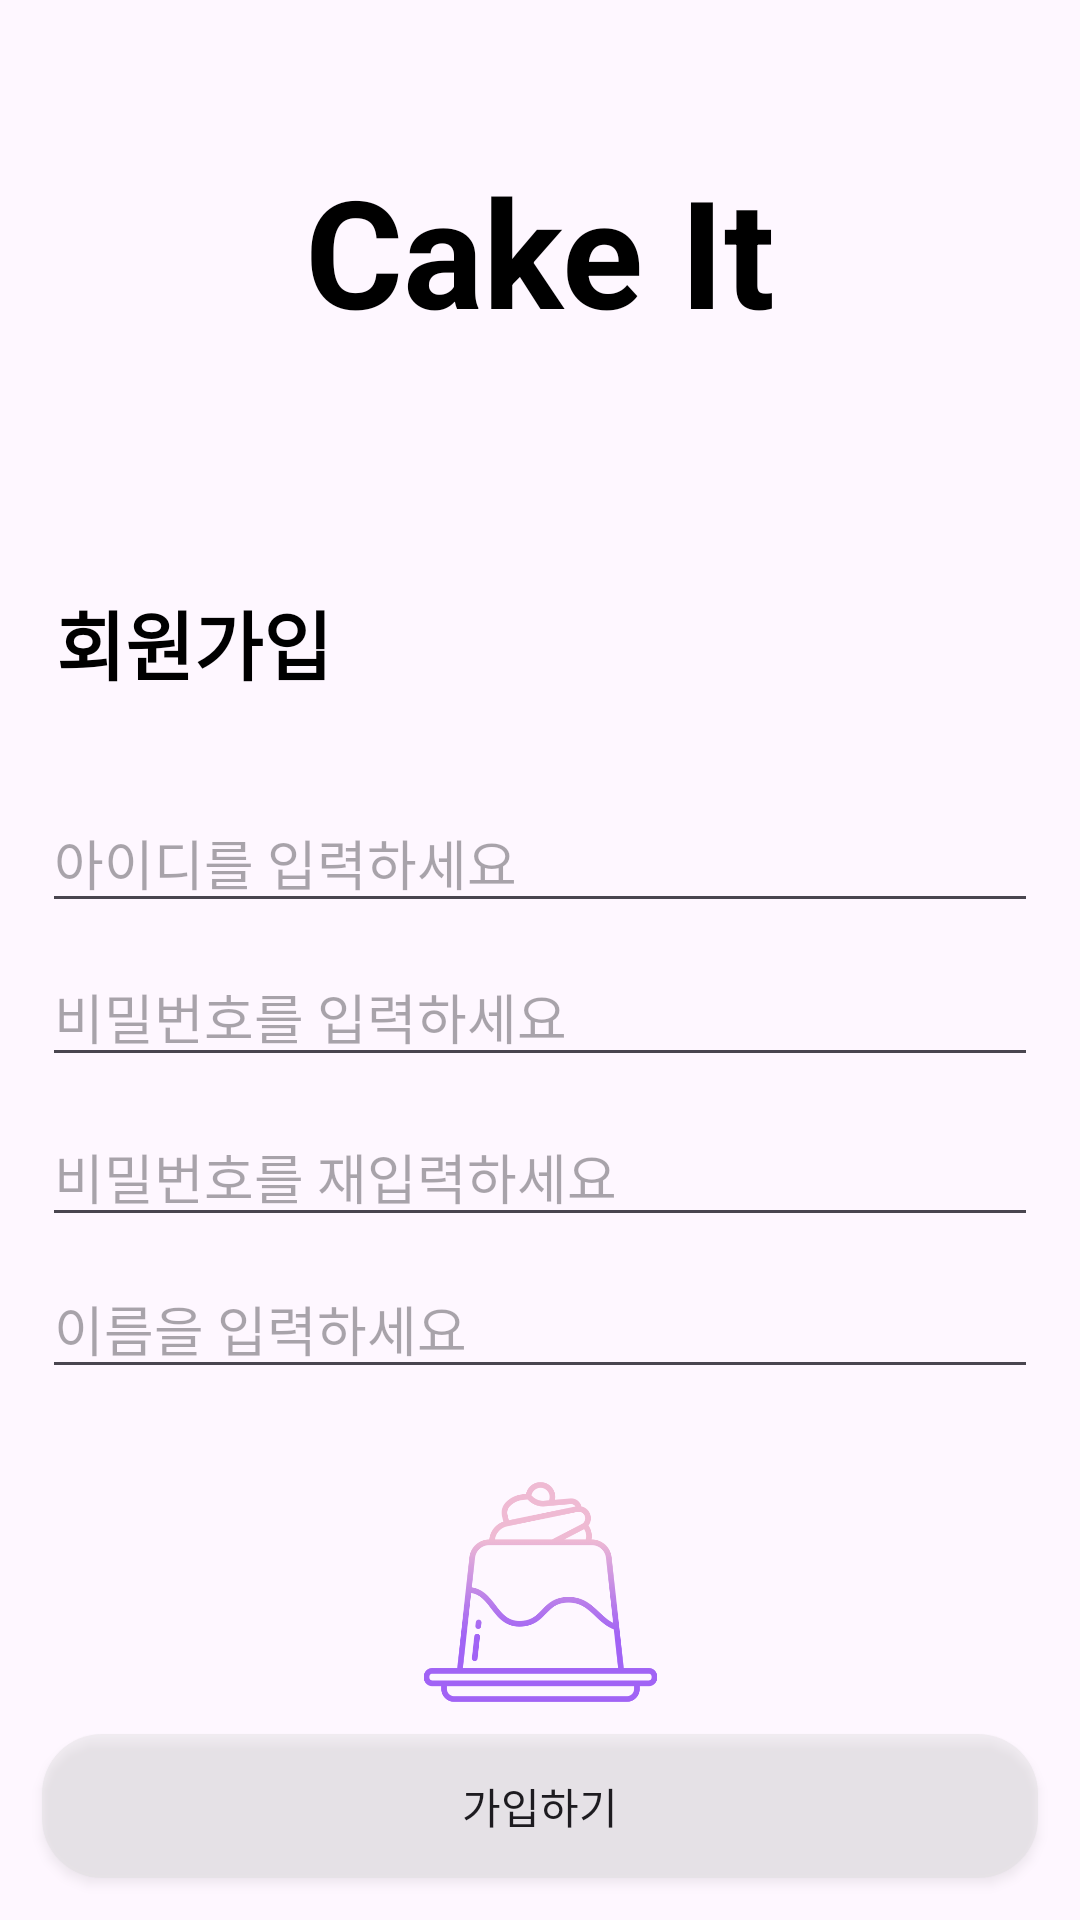

Screen size 1080px×1920px. Icon name, then its box in pixels as (x1, y1, x2, y2):
cakeit: (424, 1482, 657, 1702)
